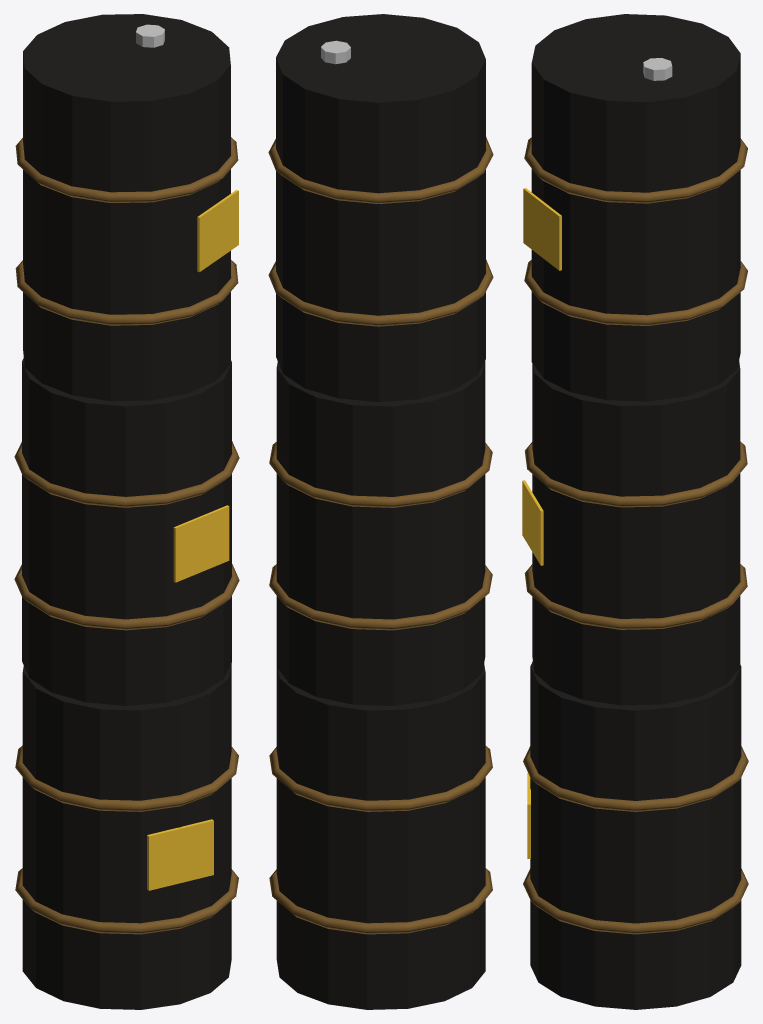
Rendered from Fossil_CrudeOil.fbx.
3 views of the same model, side by side, from view 1: azimuth 30°, elevation 25°; view 2: azimuth 150°, elevation 25°; view 3: azimuth 270°, elevation 25° (orthographic).
Parts seen in each view (by area): view 1: Fossil_CrudeOil__Stack, Fossil_CrudeOil; view 2: Fossil_CrudeOil__Stack, Fossil_CrudeOil; view 3: Fossil_CrudeOil__Stack, Fossil_CrudeOil.
Part boxes in pixels (x1,y1,x2,y2): Fossil_CrudeOil__Stack: (14,14,239,987); Fossil_CrudeOil: (21,663,238,1009); Fossil_CrudeOil__Stack: (268,14,493,1009); Fossil_CrudeOil: (275,663,492,987); Fossil_CrudeOil__Stack: (522,14,748,1009); Fossil_CrudeOil: (523,661,742,1009).
Bounding box in the file's own units: 0.15 × 0.6749 × 0.1509.
